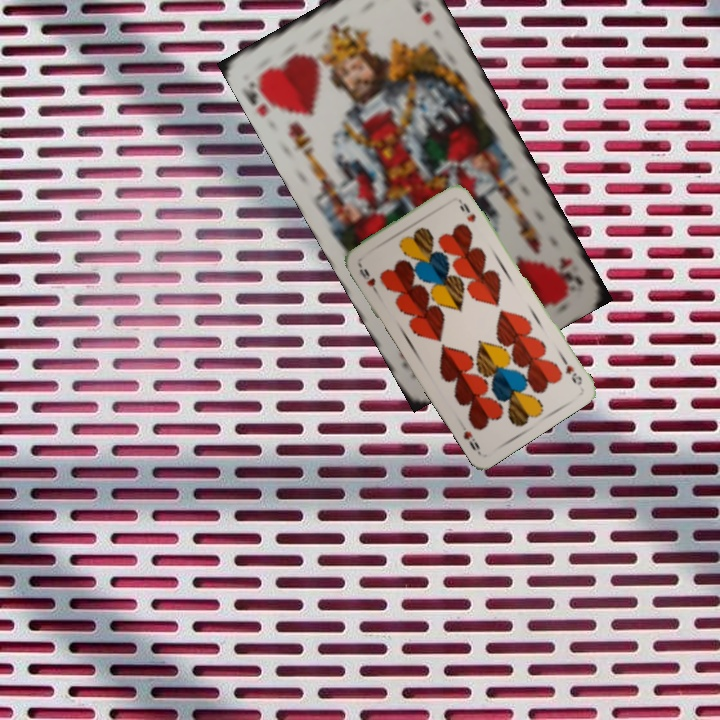H9: (354, 260, 381, 297), (557, 353, 585, 388)
HK: (239, 71, 283, 120), (554, 253, 586, 291)
